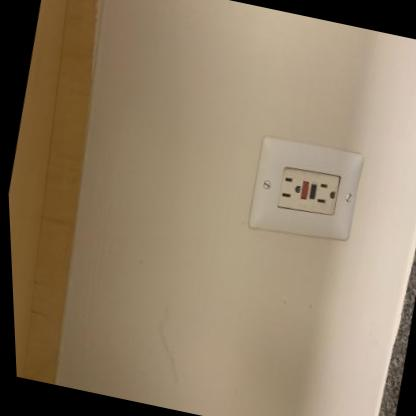OUTLET: (241, 132, 369, 248)
